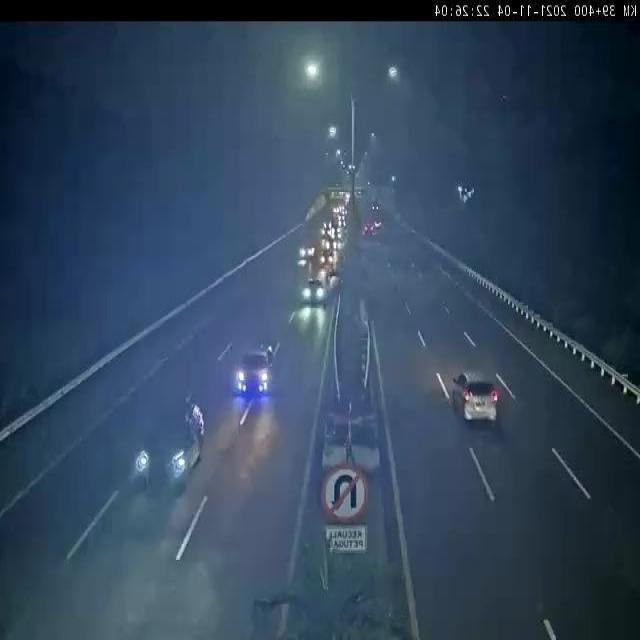Car: (135, 401, 206, 485), (452, 372, 499, 426), (235, 344, 273, 398), (301, 280, 327, 310), (320, 249, 335, 268), (364, 224, 374, 235), (374, 220, 382, 229)
